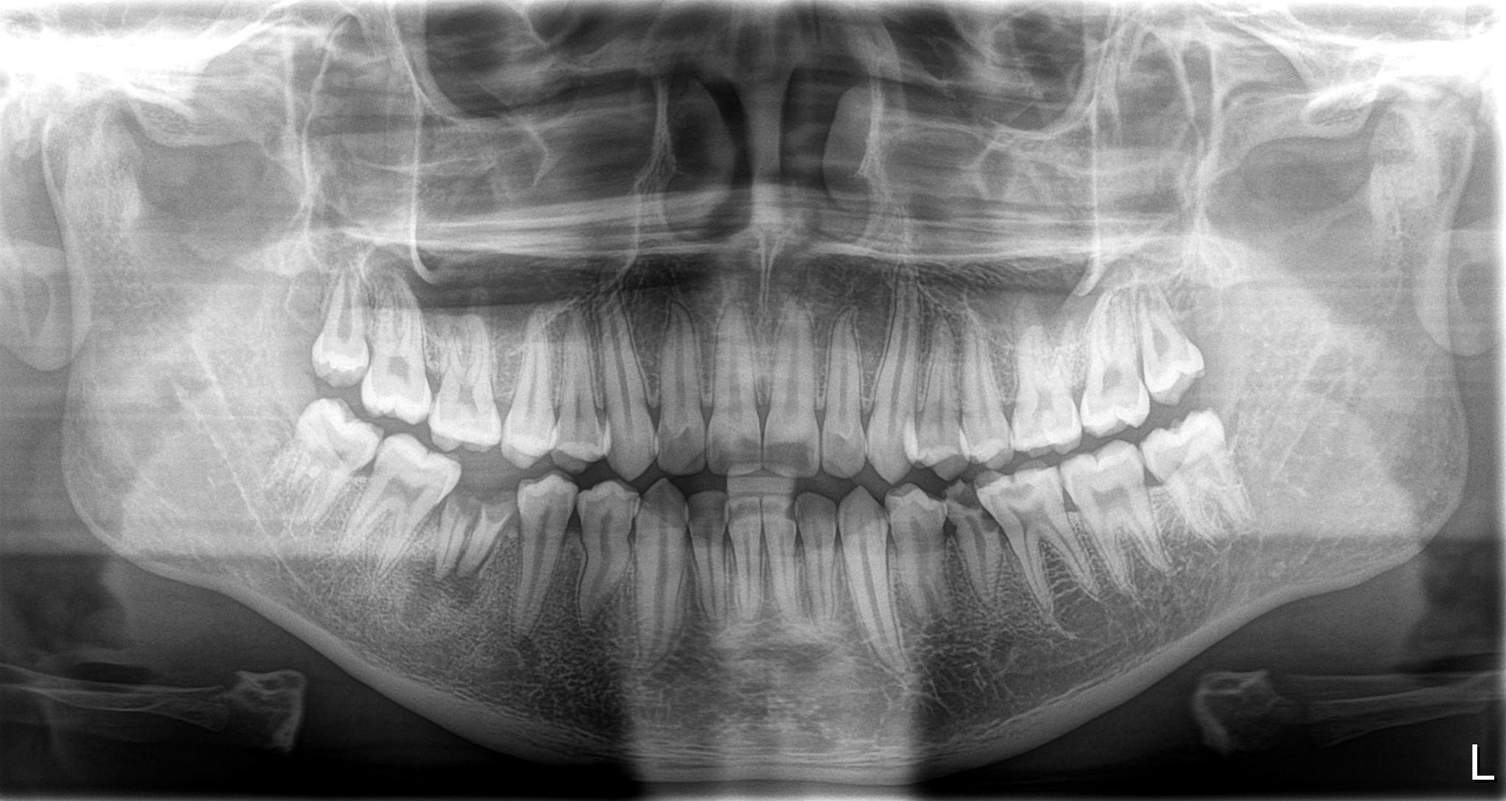Dental Caries: (1007, 494, 1061, 538)
Impacted Third Molar: (1143, 435, 1252, 545), (281, 402, 374, 522)
Periapical Lesion: (371, 538, 507, 644), (908, 520, 1002, 628)
Retained Root: (438, 482, 480, 595), (489, 479, 526, 589)
